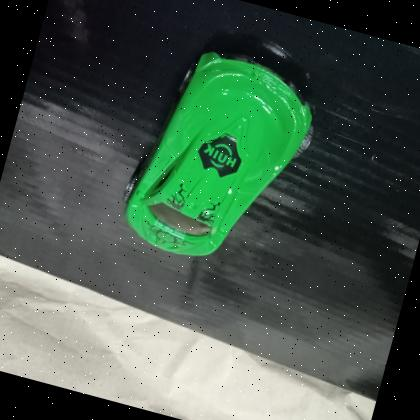Car: (123, 49, 313, 256)
